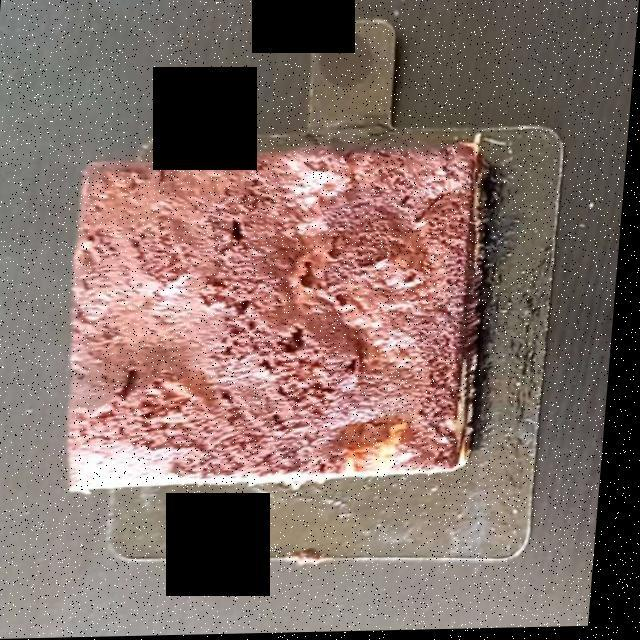brownie: (78, 150, 485, 487)
